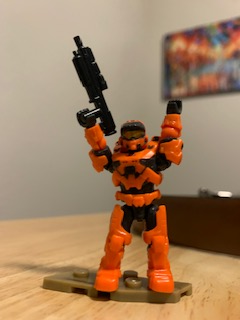rifle: (70, 34, 117, 138)
spartan: (75, 99, 185, 292)
up: (76, 99, 185, 192)
